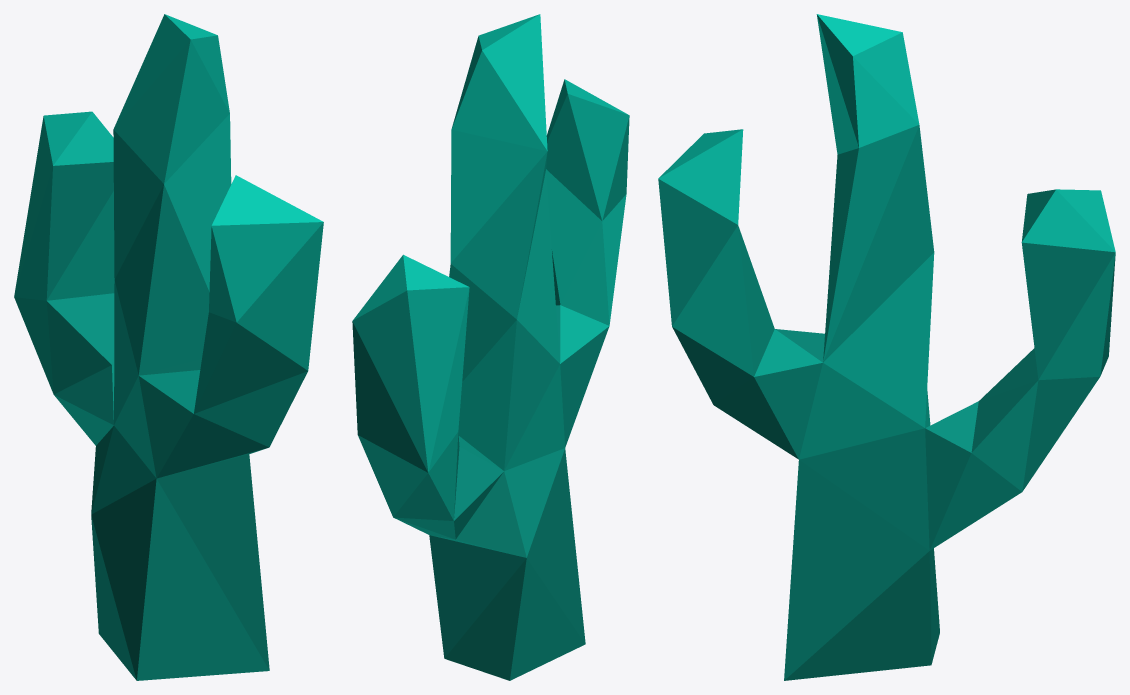
The model's file is cocktus_v3.gltf.
The picture shows the model from 3 angles, left to right: view 1: azimuth 30°, elevation 25°; view 2: azimuth 150°, elevation 25°; view 3: azimuth 270°, elevation 25°; orthographic projection. The views are drawn at different scales.
Parts seen in each view (by area): view 1: Плоскость; view 2: Плоскость; view 3: Плоскость.
Part boxes in pixels (x1,y1,x2,y2): Плоскость: (14, 14, 323, 680); Плоскость: (352, 14, 629, 680); Плоскость: (658, 14, 1115, 680).
Size of the model in its own units: 3.07 by 16.51 by 10.76.
